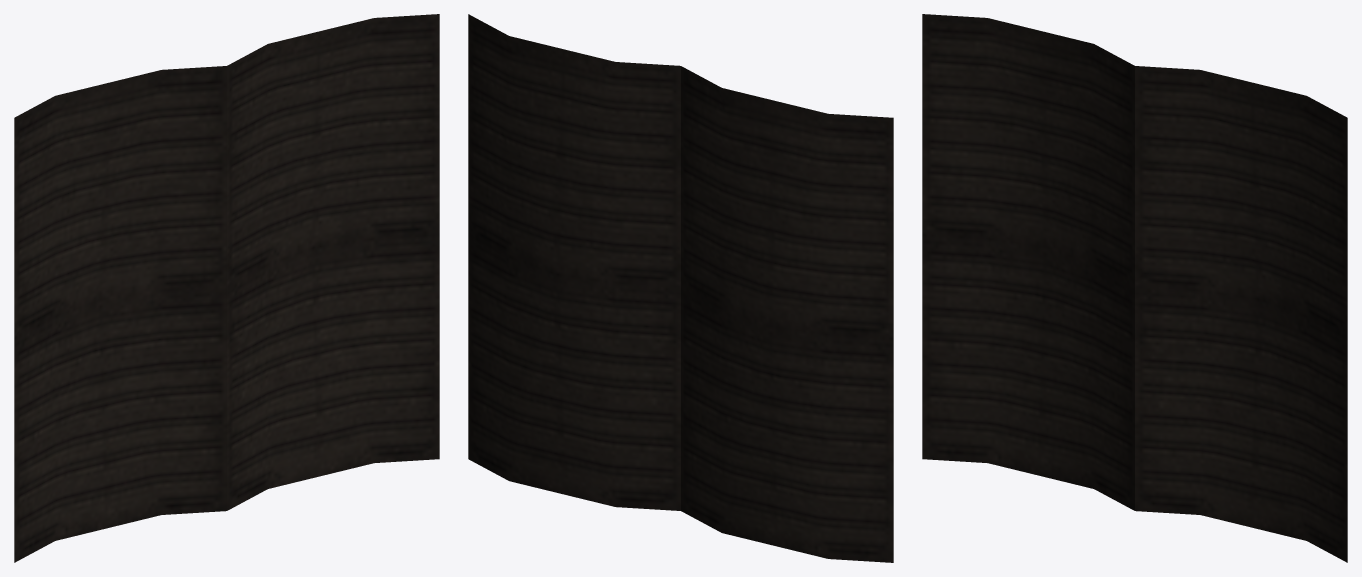
Rendered from wall_7.fbx.
3 renders of one model, left to right at view 1: azimuth 30°, elevation 25°; view 2: azimuth 150°, elevation 25°; view 3: azimuth 330°, elevation 25°, orthographic.
Visible parts, largest first — view 1: wall_7; view 2: wall_7; view 3: wall_7.
Boxes of the visible parts, bbox=[...] form: wall_7: bbox=[14, 14, 439, 562]; wall_7: bbox=[468, 14, 893, 562]; wall_7: bbox=[922, 14, 1347, 562].
Size of the model in its own units: 200 by 200 by 15.
